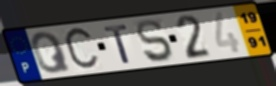2: (175, 14, 213, 61)
4: (214, 11, 243, 55)
C: (62, 24, 101, 74)
Q: (29, 30, 74, 75)
S: (135, 18, 175, 65)
T: (102, 23, 133, 65)
